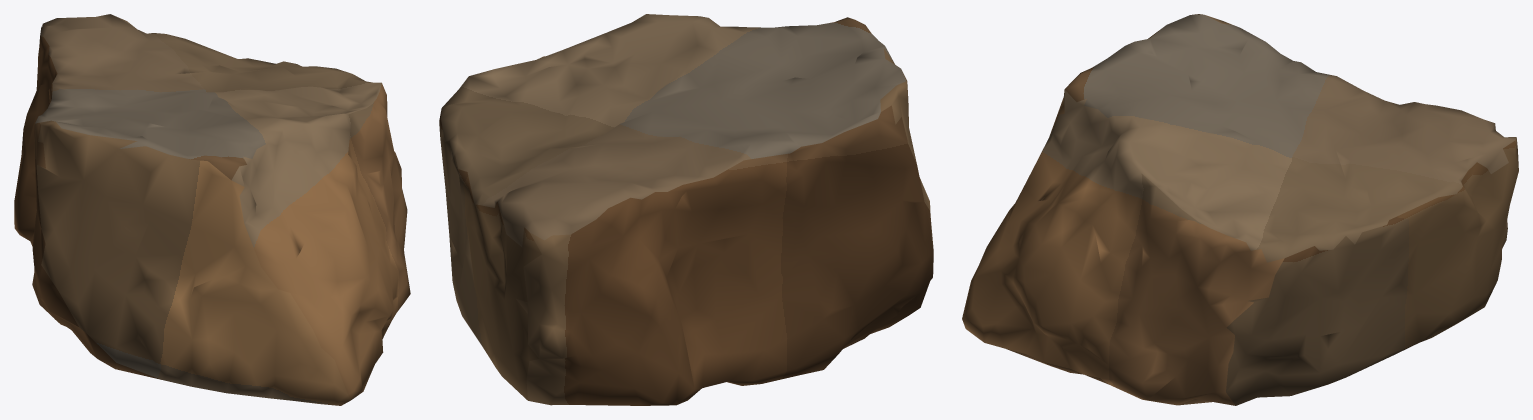
Rendered from ph_boulder_2.glb.
3 renders of one model, left to right at view 1: azimuth 30°, elevation 25°; view 2: azimuth 150°, elevation 25°; view 3: azimuth 270°, elevation 25°, orthographic. The views are drawn at different scales.
Parts seen in each view (by area): view 1: ph_boulder_2_lod1; view 2: ph_boulder_2_lod1; view 3: ph_boulder_2_lod1.
Part boxes in pixels (left/top/right/bottom): ph_boulder_2_lod1: left=14, top=14, right=410, bottom=405; ph_boulder_2_lod1: left=439, top=14, right=933, bottom=405; ph_boulder_2_lod1: left=962, top=14, right=1518, bottom=405.
Size of the model in its own units: 2.4 by 1.47 by 3.07.
Materials: 1 (1 with a texture image).
